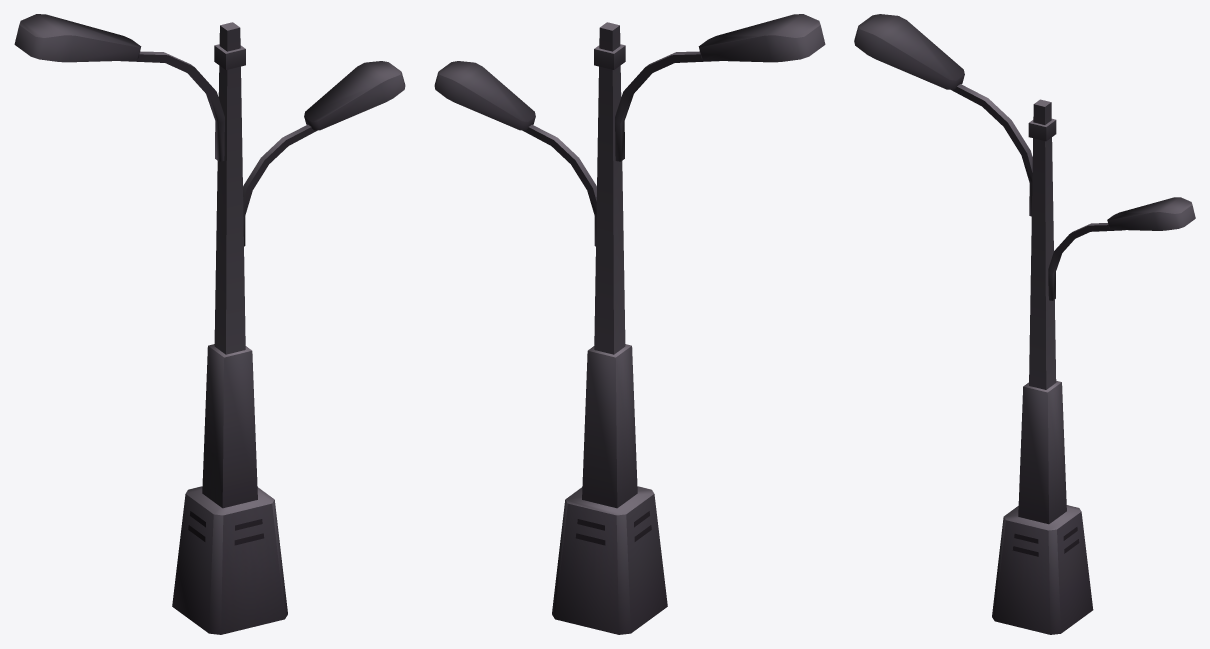
The model's file is Streetlight_4A.fbx.
The picture shows the model from 3 angles, left to right: view 1: azimuth 30°, elevation 25°; view 2: azimuth 150°, elevation 25°; view 3: azimuth 330°, elevation 25°; orthographic projection. The views are drawn at different scales.
Parts seen in each view (by area): view 1: Streetlight_4A; view 2: Streetlight_4A; view 3: Streetlight_4A.
Boxes of the visible parts, box(x1,y1,x2,y2) form: Streetlight_4A: box(14, 14, 405, 634); Streetlight_4A: box(434, 14, 825, 634); Streetlight_4A: box(854, 14, 1195, 634).
Size of the model in its own units: 5.19 by 8.29 by 1.09.
